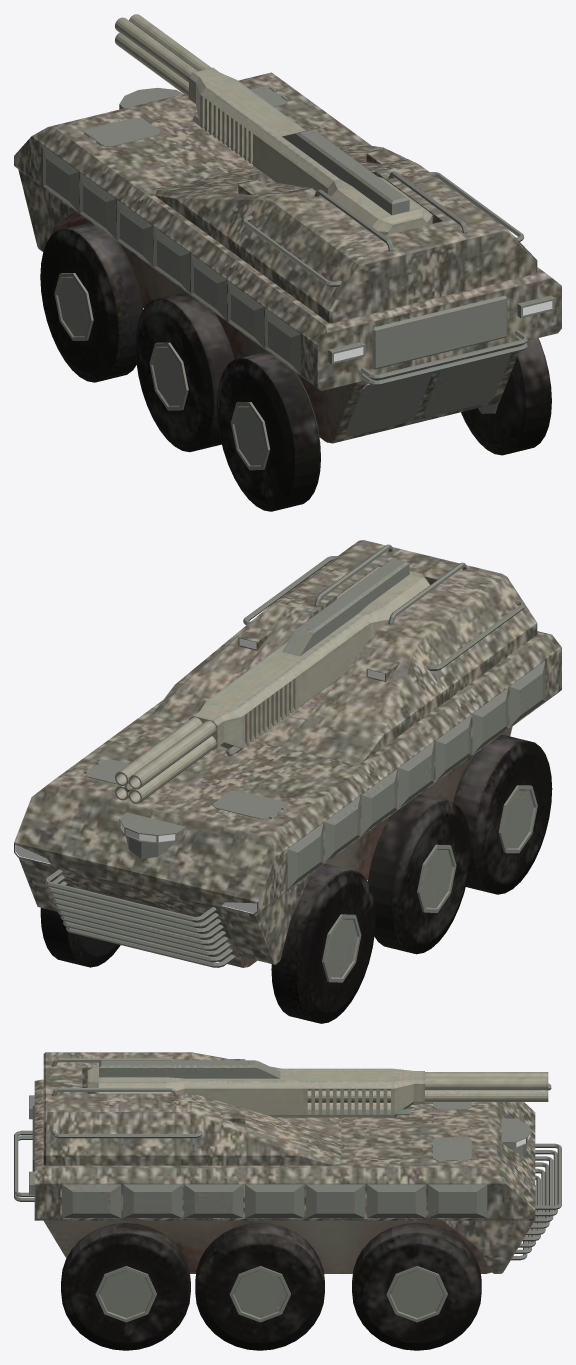
File: avs_7.glb
The picture shows the model from 3 angles, top to bottom: view 1: azimuth 30°, elevation 25°; view 2: azimuth 150°, elevation 25°; view 3: azimuth 270°, elevation 25°; orthographic projection. The views are drawn at different scales.
Parts seen in each view (by area): view 1: Sphere, Cannon, wheel6, wheel4, wheel5, wheel3; view 2: Sphere, Cannon, wheel5, wheel4, wheel6, wheel1; view 3: Sphere, Cannon, wheel2, wheel1, wheel3.
Boxes of the visible parts, x1,y1,x2,y2 form: Sphere: (14, 72, 561, 443); Cannon: (115, 14, 432, 235); wheel6: (216, 351, 320, 511); wheel4: (40, 222, 143, 382); wheel5: (135, 292, 234, 452); wheel3: (461, 338, 551, 455); Sphere: (14, 540, 561, 967); Cannon: (115, 558, 429, 803); wheel5: (368, 794, 470, 954); wheel4: (271, 864, 375, 1023); wheel6: (453, 734, 552, 894); wheel1: (40, 908, 120, 967); Sphere: (14, 1052, 561, 1273); Cannon: (87, 1060, 551, 1117); wheel2: (195, 1223, 324, 1350); wheel1: (352, 1223, 481, 1350); wheel3: (61, 1223, 190, 1350).
Bounding box in the file's own units: 0.4109 × 0.4172 × 0.8764.
4 materials, 1 textured.
